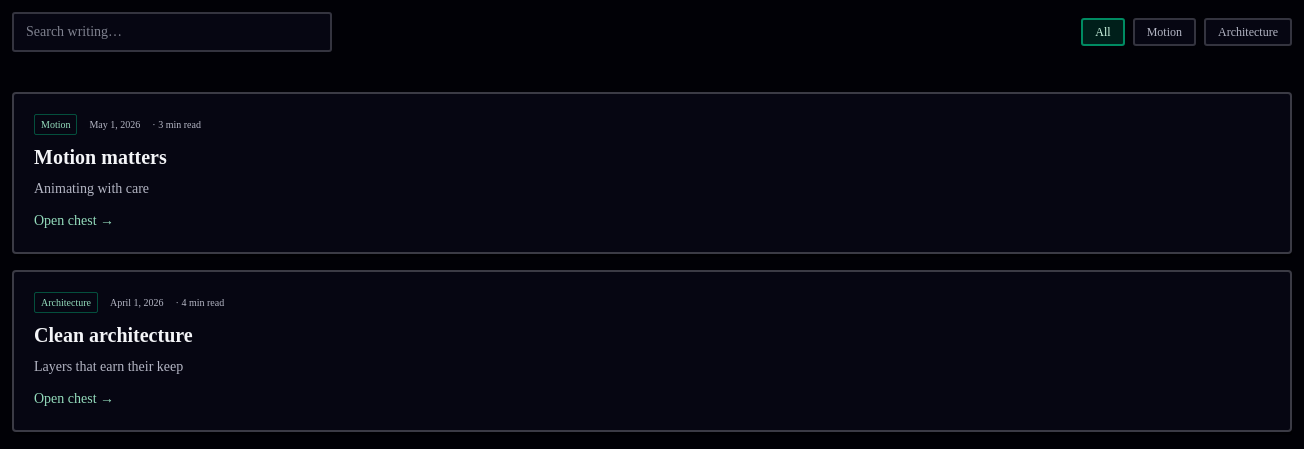
Test: BlogIndex › filters by search query
The width and height of the screenshot is (1304, 449).
Check: the heading "Motion matters" is shown, box [34,146,167,168]
Check: the heading "Clean architecture" is shown, box [34,324,193,346]
In the search field: (172, 32) [12,12,332,52], type "motion"
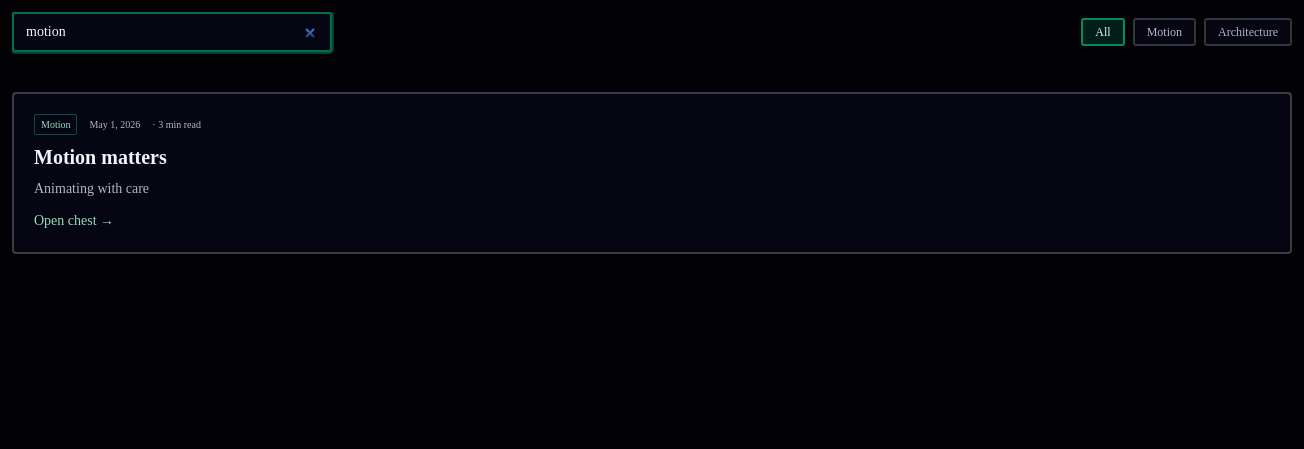
Check: the heading "Motion matters" is shown, box [34,146,167,168]
Check: the link "Clean architecture" is gone
